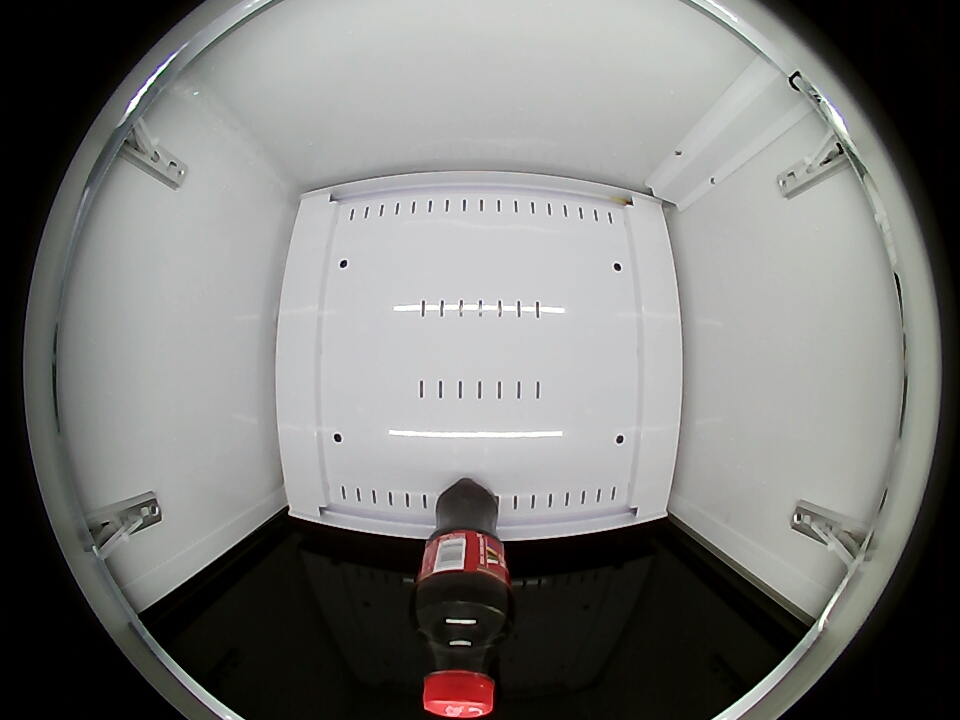kele-b: (416, 597, 511, 717)
